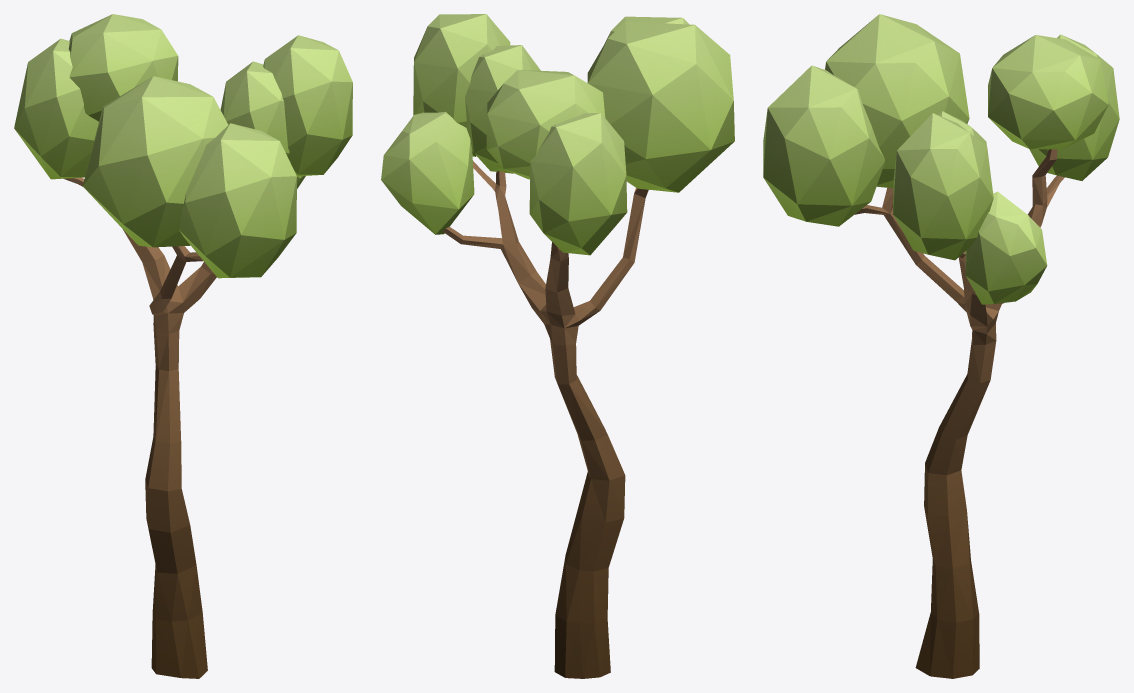
File: ZLP_Plant_I_3.FBX
3 views of the same model, side by side, from view 1: azimuth 30°, elevation 25°; view 2: azimuth 150°, elevation 25°; view 3: azimuth 270°, elevation 25° (orthographic). The views are drawn at different scales.
Visible parts, largest first — view 1: ZLP_Plant_I_3; view 2: ZLP_Plant_I_3; view 3: ZLP_Plant_I_3.
Boxes of the visible parts, x1=… form: ZLP_Plant_I_3: x1=14, y1=14, x2=352, y2=678; ZLP_Plant_I_3: x1=381, y1=14, x2=734, y2=678; ZLP_Plant_I_3: x1=763, y1=14, x2=1119, y2=678.
Bounding box in the file's own units: 81.13 × 171 × 89.46.
